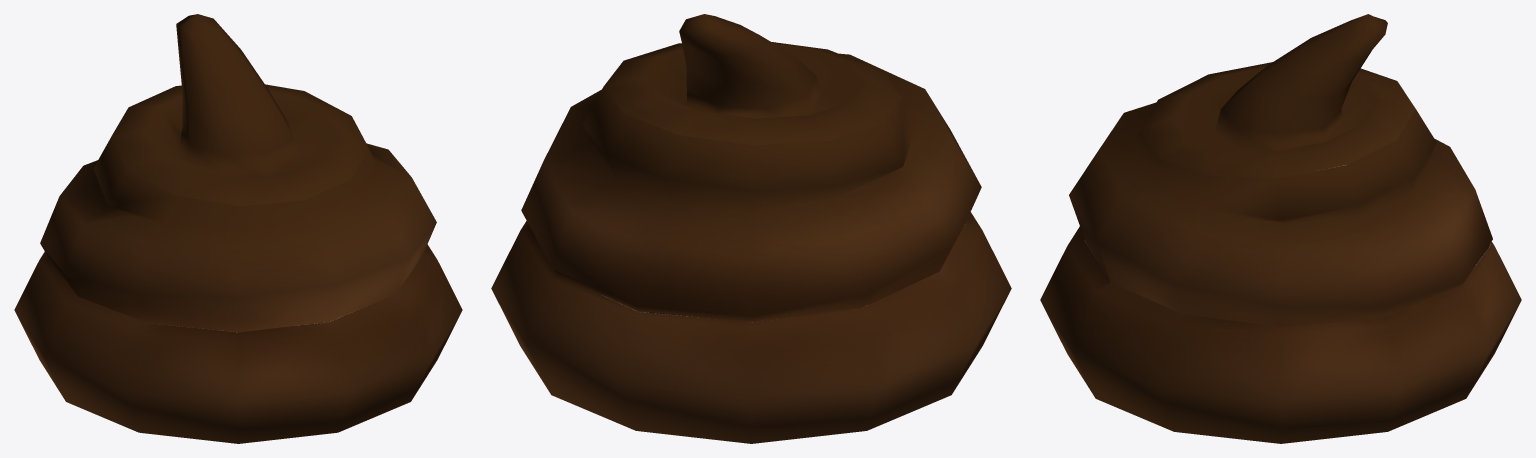
Rendered from poop.fbx.
The picture shows the model from 3 angles, left to right: view 1: azimuth 30°, elevation 25°; view 2: azimuth 150°, elevation 25°; view 3: azimuth 270°, elevation 25°; orthographic projection. The views are drawn at different scales.
Visible parts, largest first — view 1: Cube; view 2: Cube; view 3: Cube.
Part boxes in pixels (x1,y1,x2,y2): Cube: (14, 14, 462, 443); Cube: (491, 14, 1011, 443); Cube: (1040, 14, 1521, 443).
Size of the model in its own units: 296 by 242 by 296.
Materials: 1 (1 with a texture image).
